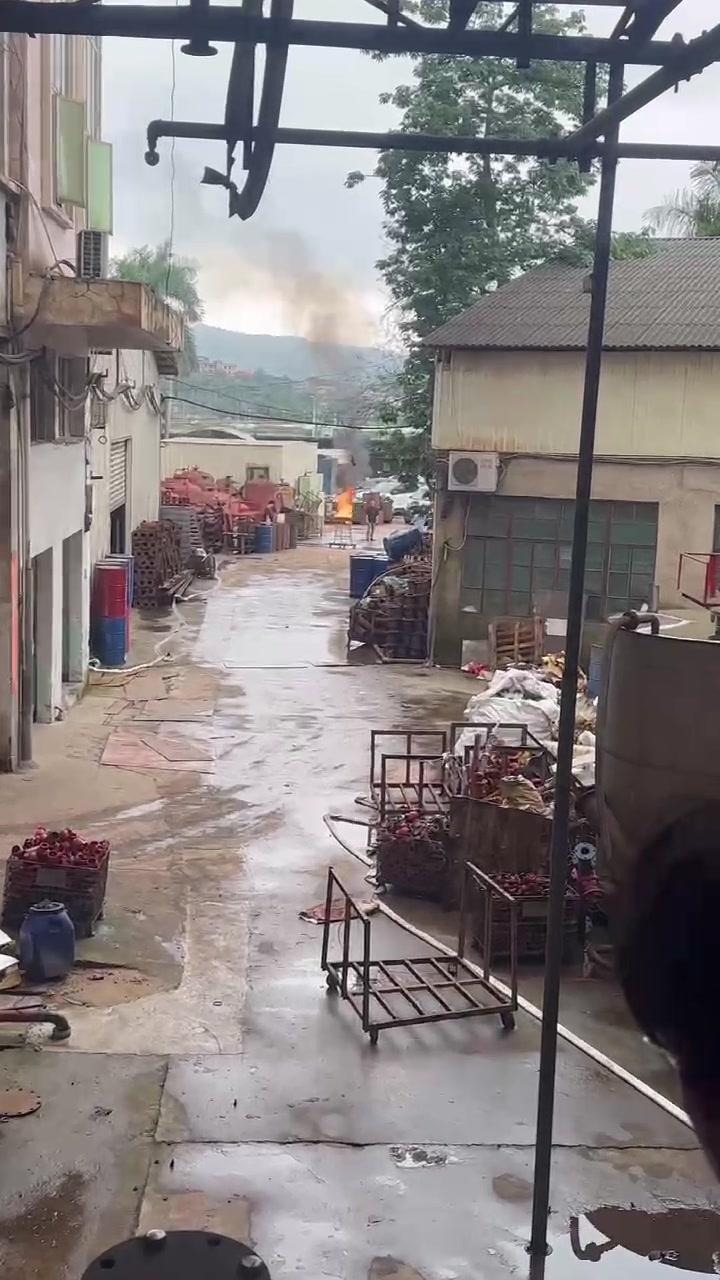fire: (334, 488, 353, 518)
